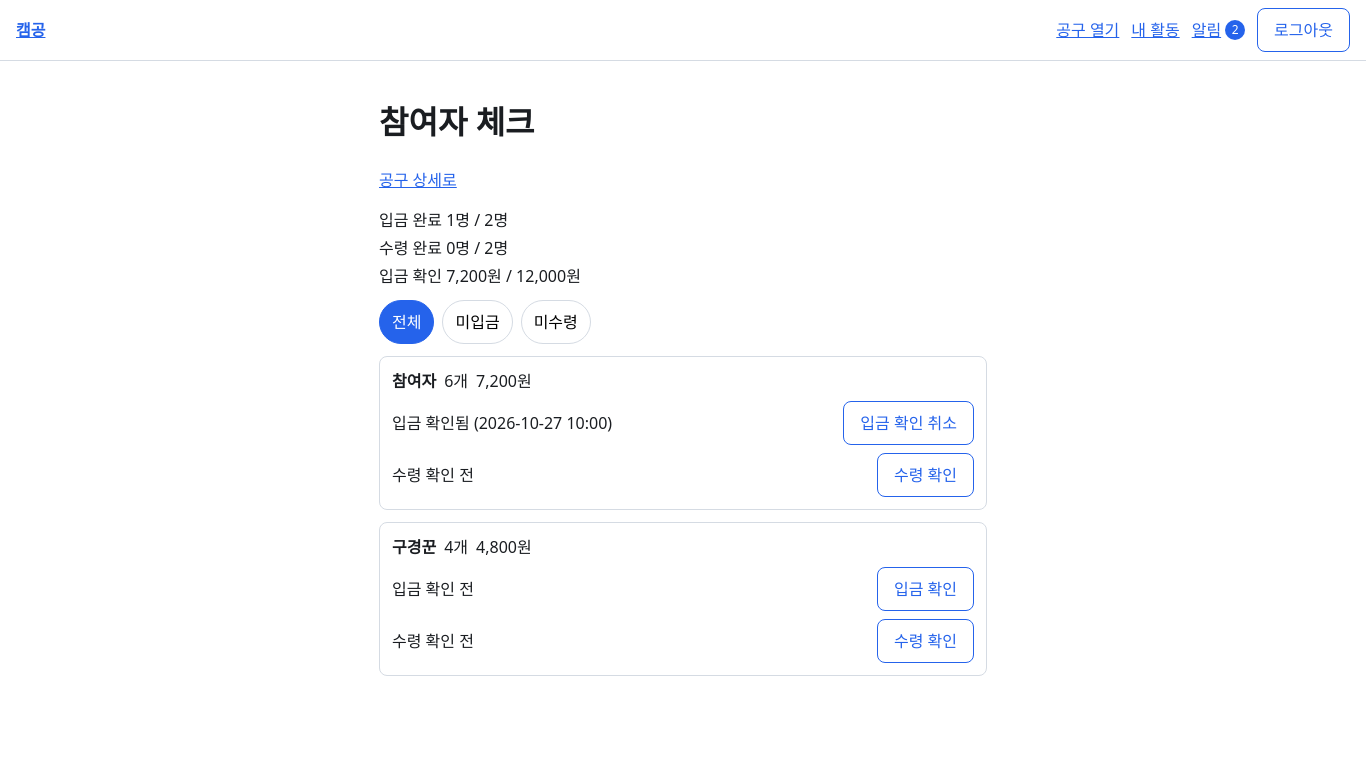
Test: 체크표 (US6) › 수령 지정도 입금과 서로 영향이 없다
Check: the list item "참여자" is shown, box [379,356,987,510]
Click the 1st button "수령 확인" at (926, 475), box [877,453,974,497]
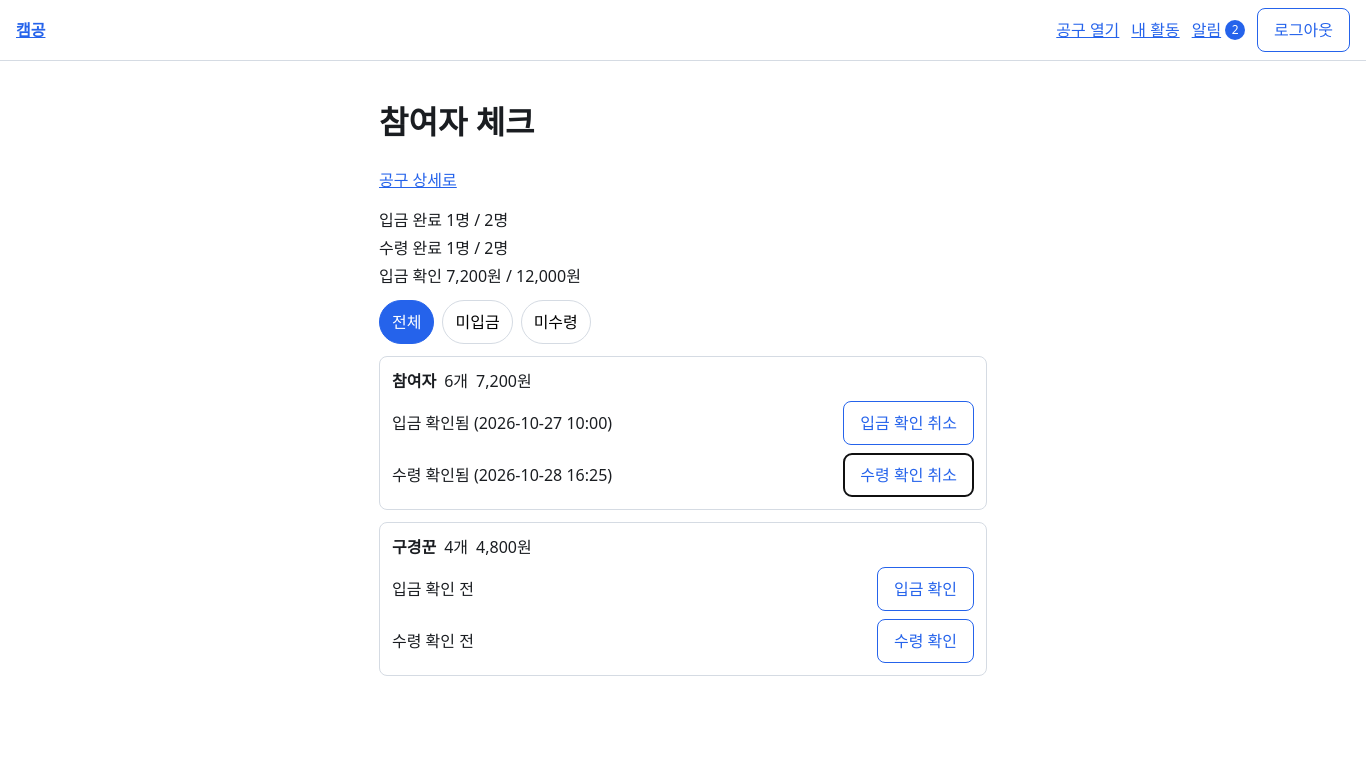
Check: the text "입금 확인됨 (2026-10-27 10:00)" is shown, box [392,411,612,435]
Check: the text "수령 확인됨 (2026-10-28 16:25)" is shown, box [392,463,612,487]
Check: the text "수령 완료 1명 / 2명" is shown, box [379,237,508,259]
